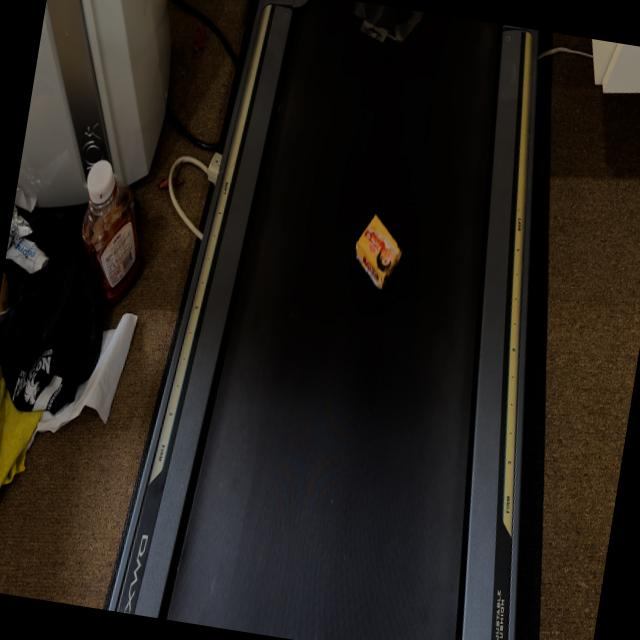Trash: (349, 210, 408, 288)
